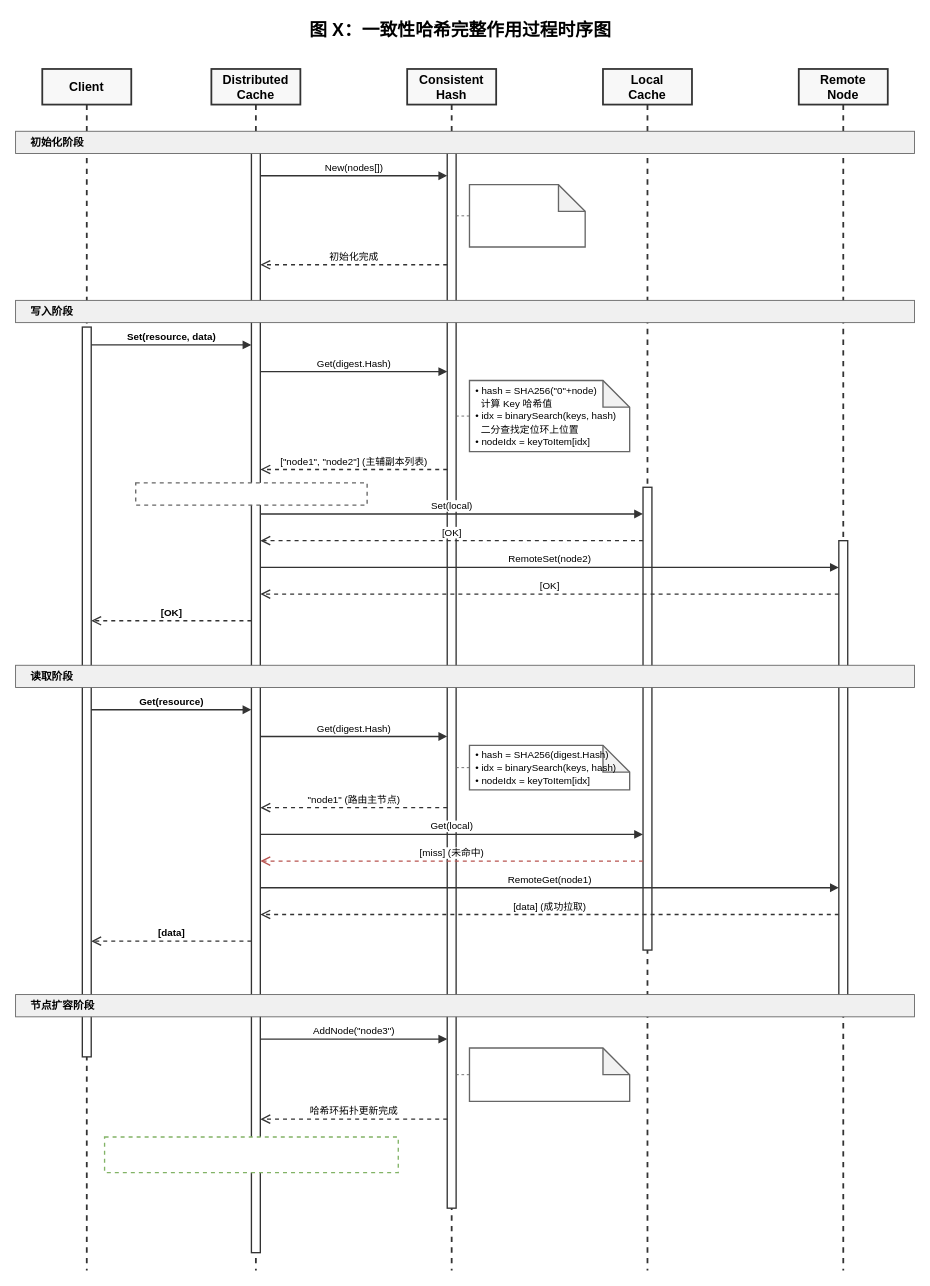
This 930x1286 diagram has some shape labels left out. The shapes that lost their labels are listed below. From the top down, each one's centre as x and y in pixels, then its label:
At (526,215): "• for node in nodes: 创建 N 个虚拟节点 • keys.sort() • 构建有序哈希环".
At (251,493): "遍历副本节点，并行写入 (replicationFactor=2)".
At (549,1074): "• 为 node3 创建 100 个虚拟节点 • 重新排序 keys 哈希环 • 更新虚拟到物理的映射表".
At (251,1154): "数据迁移机制 : 仅约 1/3 的缓存块因哈希区间分裂被迁移至 node3。 其他 2/3 数据保留在原节点，实现了最小化平滑迁移。".
